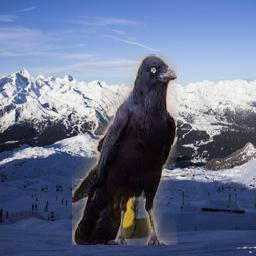Crow: (73, 55, 178, 246)
